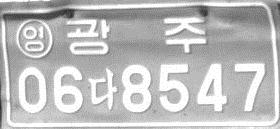0: (16, 66, 46, 113)
4: (196, 62, 227, 112)
5: (158, 63, 189, 113)
6: (52, 65, 83, 113)
7: (234, 63, 266, 112)
8: (121, 64, 152, 113)
광주_D: (64, 17, 207, 56)
다: (88, 67, 118, 111)
영: (15, 18, 53, 60)
